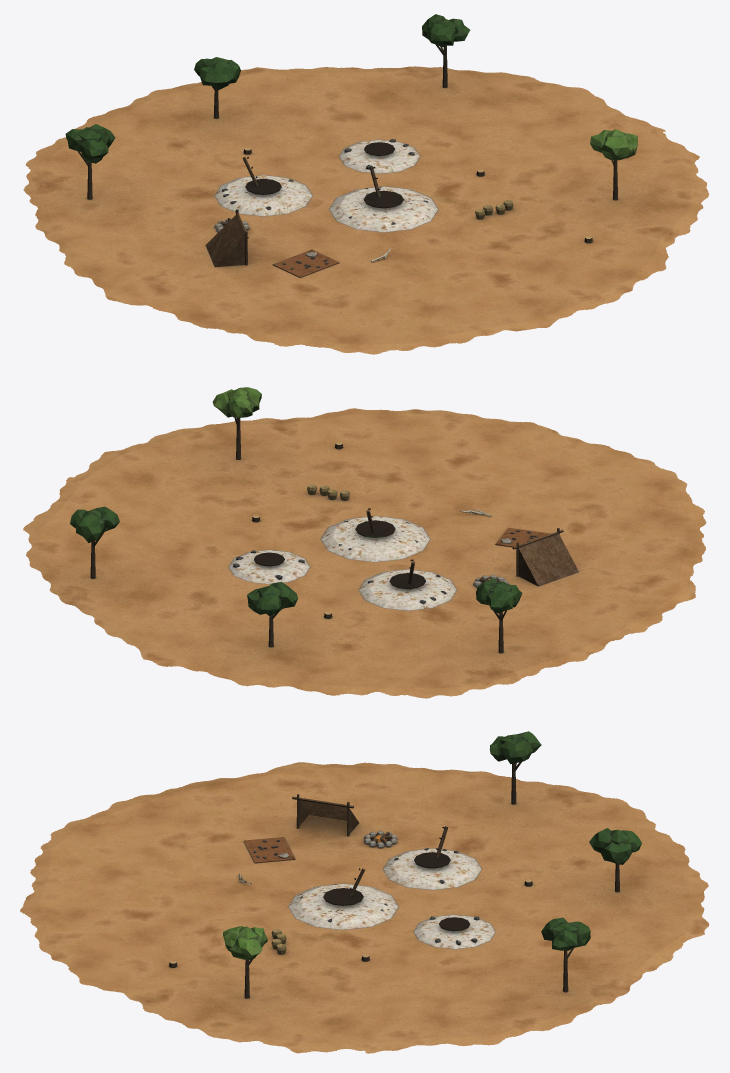
File: mine-stone.glb
3 renders of one model, top to bottom at view 1: azimuth 30°, elevation 25°; view 2: azimuth 150°, elevation 25°; view 3: azimuth 270°, elevation 25°, orthographic.
Visible parts, largest first — view 1: LOD0; view 2: LOD0; view 3: LOD0.
Boxes of the visible parts, x1,y1,x2,y2 form: LOD0: (23,14,709,354); LOD0: (23,387,706,698); LOD0: (20,731,709,1053).
Size of what is drawn, in the model's own units: 4.74 by 0.5587 by 4.74.
2 materials, 2 textured.
